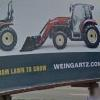Tractor: (27, 5, 100, 55)
